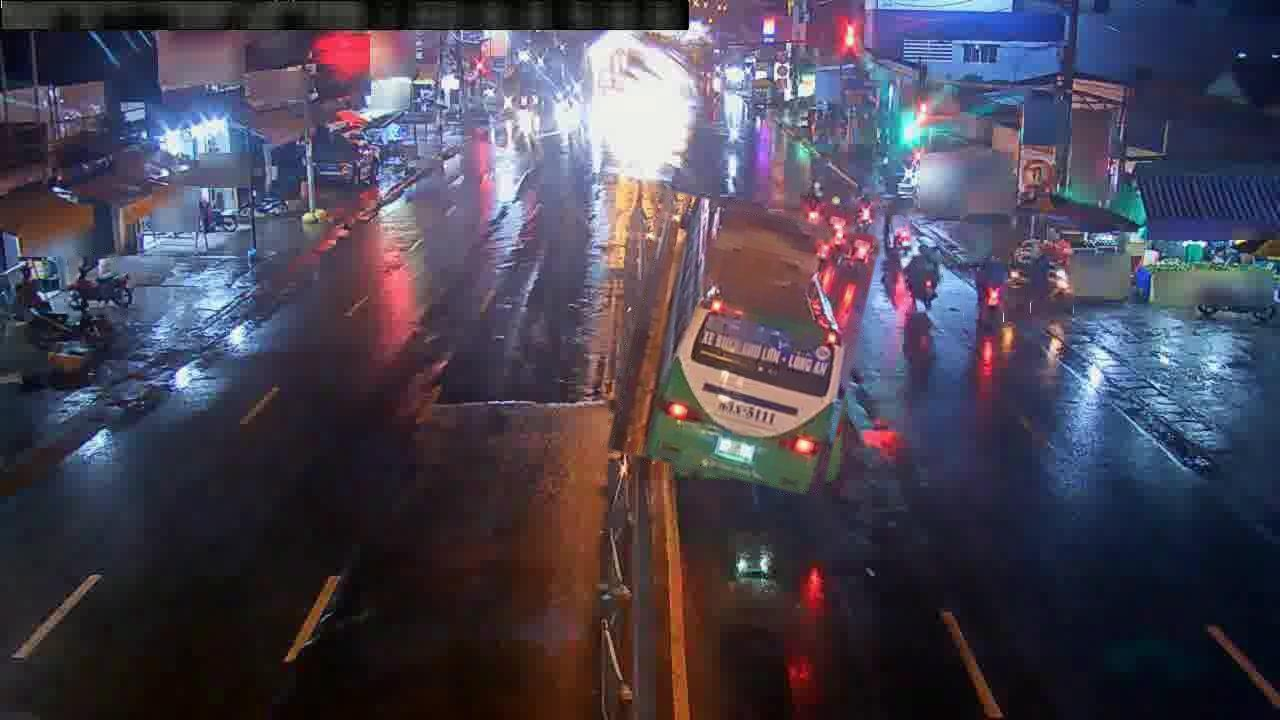Motorcyclist: (69, 258, 131, 310), (1031, 254, 1074, 310), (973, 259, 1006, 327), (905, 253, 940, 311), (815, 199, 848, 244), (881, 211, 912, 256), (789, 204, 820, 248), (850, 195, 876, 233), (804, 158, 824, 197)
Truck: (662, 198, 842, 438)
